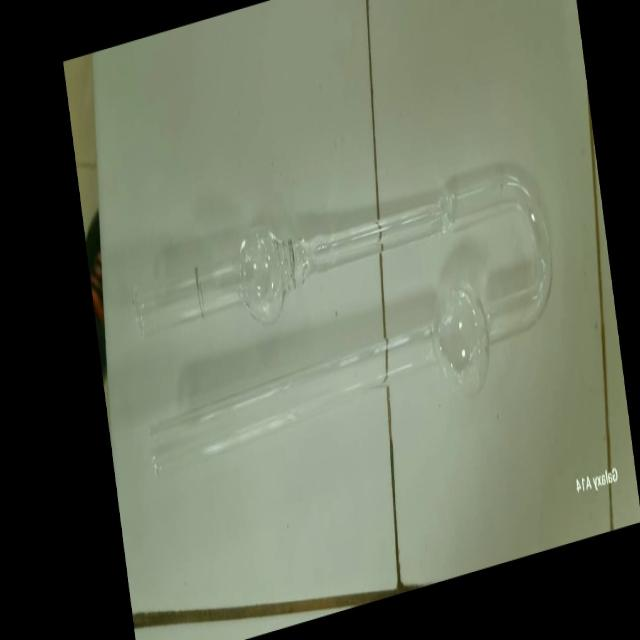Ostwald Viscometer: (118, 146, 570, 486)
